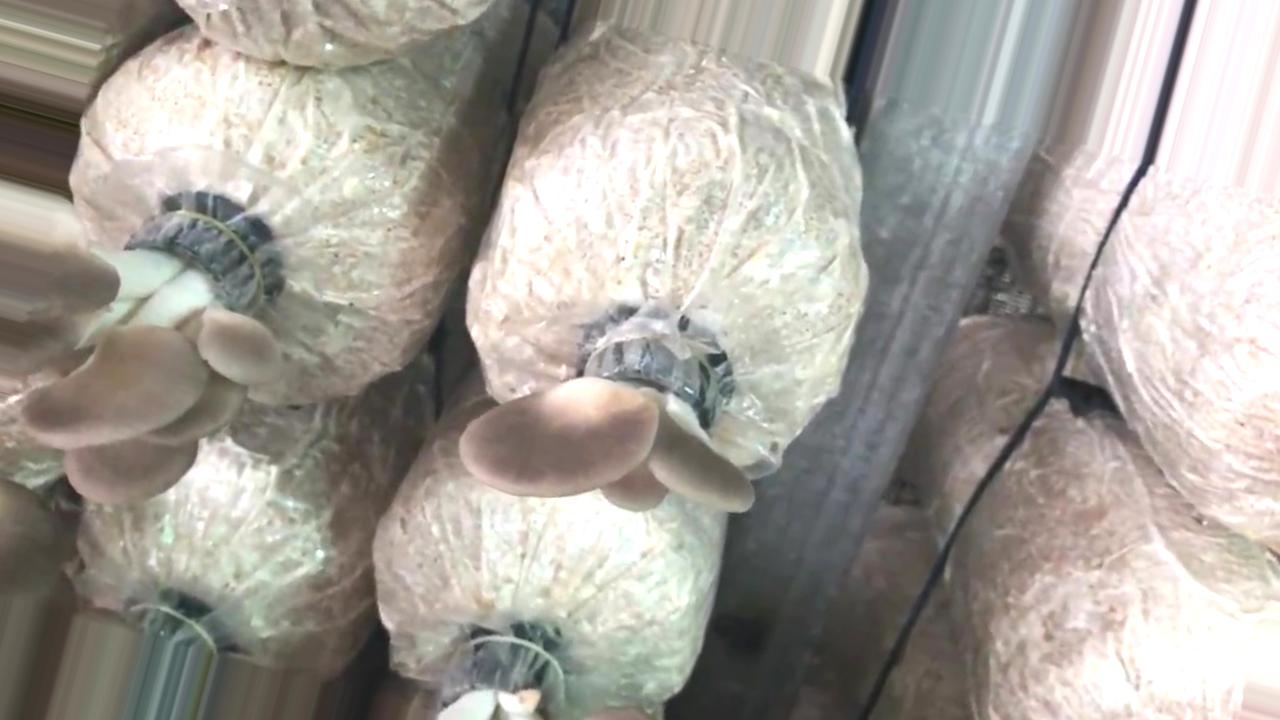nam: (3, 187, 253, 507), (464, 321, 748, 520)
